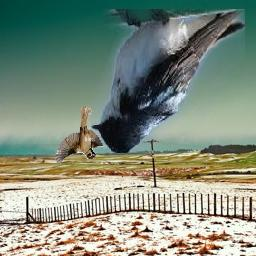Sparrow: (55, 106, 107, 165)
Swallow: (91, 9, 245, 153)
